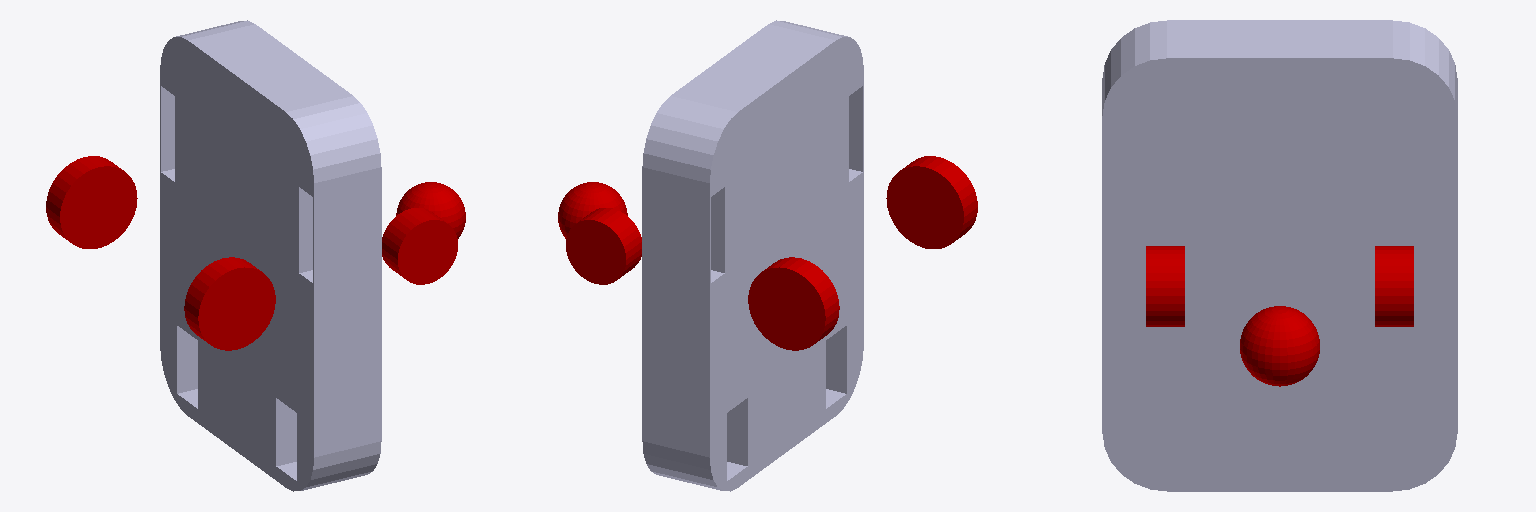
The robot description file, URDF, robot "albert":
<?xml version="1.0" encoding="utf-8"?>
<!-- =================================================================================== -->
<!-- |    This document was autogenerated by xacro from mmrobot.urdf.xacro             | -->
<!-- |    EDITING THIS FILE BY HAND IS NOT RECOMMENDED                                 | -->
<!-- =================================================================================== -->
<robot name="albert">
  <material name="Boxer_Black">
    <color rgba="0.1 0.1 0.1 1.0"/>
  </material>
  <material name="Boxer_Blue">
    <color rgba="0.0 0.0 0.8 1.0"/>
  </material>
  <material name="Boxer_Purple">
    <color rgba="0.6 0.0 0.6 1.0"/>
  </material>
  <material name="Boxer_Green">
    <color rgba="0.0 0.8 0.0 1.0"/>
  </material>
  <material name="Boxer_LimeGreen">
    <color rgba="0.3 0.8 0.3 1.0"/>
  </material>
  <material name="Boxer_Grey">
    <color rgba="0.5 0.5 0.5 1.0"/>
  </material>
  <material name="Boxer_DarkGrey">
    <color rgba="0.3 0.3 0.3 1.0"/>
  </material>
  <material name="Boxer_Red">
    <color rgba="0.8 0.0 0.0 1.0"/>
  </material>
  <material name="Boxer_Pink">
    <color rgba="0.8 0.4 0.8 1.0"/>
  </material>
  <material name="Boxer_White">
    <color rgba="1.0 1.0 1.0 1.0"/>
  </material>
  <material name="Boxer_Yellow">
    <color rgba="0.8 0.8 0.0 1.0"/>
  </material>
  <material name="Boxer_GreyTransparent">
    <color rgba="0.5 0.5 0.5 0.5"/>
  </material>
  <link name="chassis_link">
    <inertial>
      <origin rpy="0 0 0" xyz="0 0 0.07"/>
      <mass value="250"/>
      <inertia ixx="2.3" ixy="0" ixz="0" iyy="3.35" iyz="0.00" izz="1.22"/>
    </inertial>
    <visual>
      <origin rpy="1.5708 0 0" xyz="0 0 0"/>
      <geometry>
        <mesh filename="meshes/visual/chassis_link.dae"/>
      </geometry>
      <material name="">
        <color rgba="0.8 0.8 0.9 1"/>
      </material>
    </visual>
    <collision>
      <origin rpy="0 0 0" xyz="0 0 0"/>
      <geometry>
        <mesh filename="meshes/collision/chassis_link.STL"/>
      </geometry>
    </collision>
  </link>
  <!-- 0.27 in z direction because extrusion is 0.30, and plate is 0.1 -->
  <link name="rotacastor_right_link">
    <inertial>
      <origin rpy="0 0 0" xyz="0 0 0"/>
      <mass value="1"/>
      <inertia ixx="0.2" ixy="0" ixz="0" iyy="0.2" iyz="0" izz="0.2"/>
    </inertial>
    <visual>
      <origin rpy="0 1.5708 0" xyz="0 0 0"/>
      <geometry>
        <cylinder length="0.06" radius="0.0625"/>
      </geometry>
      <material name="Boxer_Red"/>
    </visual>
    <collision>
      <origin rpy="0 1.5708 0" xyz="0 0 0"/>
      <geometry>
        <cylinder length="0.001" radius="0.0625"/>
      </geometry>
    </collision>
  </link>
  <joint name="rotacastor_right_joint" type="fixed">
    <origin rpy="0 0 0" xyz="-0.177 -0.274 0.043"/>
    <parent link="chassis_link"/>
    <child link="rotacastor_right_link"/>
    <axis xyz="1 0 0"/>
    <dynamics damping="1.0"/>
  </joint>
  <link name="rotacastor_left_link">
    <inertial>
      <origin rpy="0 0 0" xyz="0 0 0"/>
      <mass value="1"/>
      <inertia ixx="0.2" ixy="0" ixz="0" iyy="0.2" iyz="0" izz="0.2"/>
    </inertial>
    <visual>
      <origin rpy="0 1.5708 0" xyz="0 0 0"/>
      <geometry>
        <cylinder length="0.06" radius="0.0625"/>
      </geometry>
      <material name="Boxer_Red"/>
    </visual>
    <collision>
      <origin rpy="0 1.5708 0" xyz="0 0 0"/>
      <geometry>
        <cylinder length="0.001" radius="0.0625"/>
      </geometry>
    </collision>
  </link>
  <joint name="rotacastor_left_joint" type="fixed">
    <origin rpy="0 0 0" xyz="0.177 -0.274 0.043"/>
    <parent link="chassis_link"/>
    <child link="rotacastor_left_link"/>
    <axis xyz="1 0 0"/>
    <dynamics damping="1.0"/>
  </joint>
  <link name="wheel_right_link">
    <inertial>
      <origin rpy="0 0 0" xyz="0 0 0"/>
      <mass value="10"/>
      <inertia ixx="0.2" ixy="0" ixz="0" iyy="0.2" iyz="0" izz="0.2"/>
    </inertial>
    <visual>
      <origin rpy="0 1.5708 0" xyz="0 0 0"/>
      <geometry>
        <cylinder length="0.05" radius="0.080"/>
      </geometry>
      <material name="Boxer_Red"/>
    </visual>
    <collision>
      <origin rpy="0 1.5708 0" xyz="0 0 0"/>
      <geometry>
        <cylinder length="0.001" radius="0.080"/>
      </geometry>
    </collision>
  </link>
  <joint name="wheel_right_joint" type="continuous">
    <origin rpy="0 0 0" xyz="-0.247 0.157 0.058"/>
    <parent link="chassis_link"/>
    <child link="wheel_right_link"/>
    <axis xyz="1 0 0"/>
    <limit effort="10000" velocity="1000"/>
    <dynamics damping="1.0"/>
  </joint>
  <link name="wheel_left_link">
    <inertial>
      <origin rpy="0 0 0" xyz="0 0 0"/>
      <mass value="10"/>
      <inertia ixx="0.2" ixy="0" ixz="0" iyy="0.2" iyz="0" izz="0.2"/>
    </inertial>
    <visual>
      <origin rpy="0 1.5708 0" xyz="0 0 0"/>
      <geometry>
        <cylinder length="0.05" radius="0.080"/>
      </geometry>
      <material name="Boxer_Red"/>
    </visual>
    <collision>
      <origin rpy="0 1.5708 0" xyz="0 0 0"/>
      <geometry>
        <cylinder length="0.001" radius="0.080"/>
      </geometry>
    </collision>
  </link>
  <joint name="wheel_left_joint" type="continuous">
    <origin rpy="0 0 0" xyz="0.247 0.157 0.058"/>
    <parent link="chassis_link"/>
    <child link="wheel_left_link"/>
    <axis xyz="1 0 0"/>
    <limit effort="10000" velocity="1000"/>
    <dynamics damping="1.0"/>
  </joint>
  <!-- Base link with no geometry or inertia, because KDL needs it
to be that way. -->
  <link name="base_link_ori">
    <inertial>
      <origin rpy="0 0 0" xyz="0 0 0"/>
      <mass value="0.001"/>
      <inertia ixx="0.2" ixy="0" ixz="0" iyy="0.2" iyz="0" izz="0.2"/>
    </inertial>
  </link>
  <link name="base_link">
    <inertial>
      <origin rpy="0 0 0" xyz="0 0 0"/>
      <mass value="1"/>
      <inertia ixx="0.2" ixy="0" ixz="0" iyy="0.2" iyz="0" izz="0.2"/>
    </inertial>
  </link>
  <joint name="base_chassis_joint" type="fixed">
    <origin rpy="0 0 0" xyz="0 0 0"/>
    <parent link="base_link"/>
    <child link="chassis_link"/>
  </joint>
  <link name="ee_link">
    <visual>
      <origin rpy="0 0 0" xyz="0 0 0"/>
      <geometry>
        <sphere radius="0.0625"/>
      </geometry>
      <material name="Boxer_Red"/>
    </visual>
  </link>
  <joint name="ee_joint" type="fixed">
    <origin rpy="0 0 0" xyz="0 -0.4 0"/>
    <parent link="base_link"/>
    <child link="ee_link"/>
  </joint>
  <joint name="base_add_orientation" type="fixed">
    <origin rpy="0 0 1.57079" xyz="0.0 0 0"/>
    <parent link="base_link_ori"/>
    <child link="base_link"/>
  </joint>
  <!-- end for simulation -->
</robot>

--- Render facts (derived) ---
Views: 3 orthographic renders of the robot side by side, from view 1: azimuth 30°, elevation 25°; view 2: azimuth 150°, elevation 25°; view 3: azimuth 270°, elevation 25°.
Robot: albert — 8 links, 7 joints (2 continuous, 5 fixed); root link base_link_ori; default pose: every joint at zero.
Visible links, largest first — view 1: chassis_link, wheel_right_link, wheel_left_link, rotacastor_right_link, ee_link; view 2: chassis_link, wheel_right_link, wheel_left_link, rotacastor_left_link, ee_link; view 3: chassis_link, ee_link, rotacastor_right_link, rotacastor_left_link.
Link boxes in pixels (x1,y1,x2,y2): chassis_link: [160, 20, 381, 491]; wheel_right_link: [184, 257, 275, 350]; wheel_left_link: [46, 156, 137, 248]; rotacastor_right_link: [382, 208, 457, 284]; ee_link: [396, 182, 465, 238]; chassis_link: [642, 20, 863, 491]; wheel_right_link: [886, 156, 977, 248]; wheel_left_link: [748, 257, 839, 350]; rotacastor_left_link: [566, 208, 641, 284]; ee_link: [558, 182, 627, 238]; chassis_link: [1102, 20, 1457, 491]; ee_link: [1240, 306, 1319, 386]; rotacastor_right_link: [1146, 246, 1184, 326]; rotacastor_left_link: [1375, 246, 1413, 326].
Bounding box of the posed robot: 0.6995 × 0.55 × 0.74 m (x, y, z).
Meshes: 1 distinct files referenced, 1 mesh visuals loaded (1 Collada DAE).
